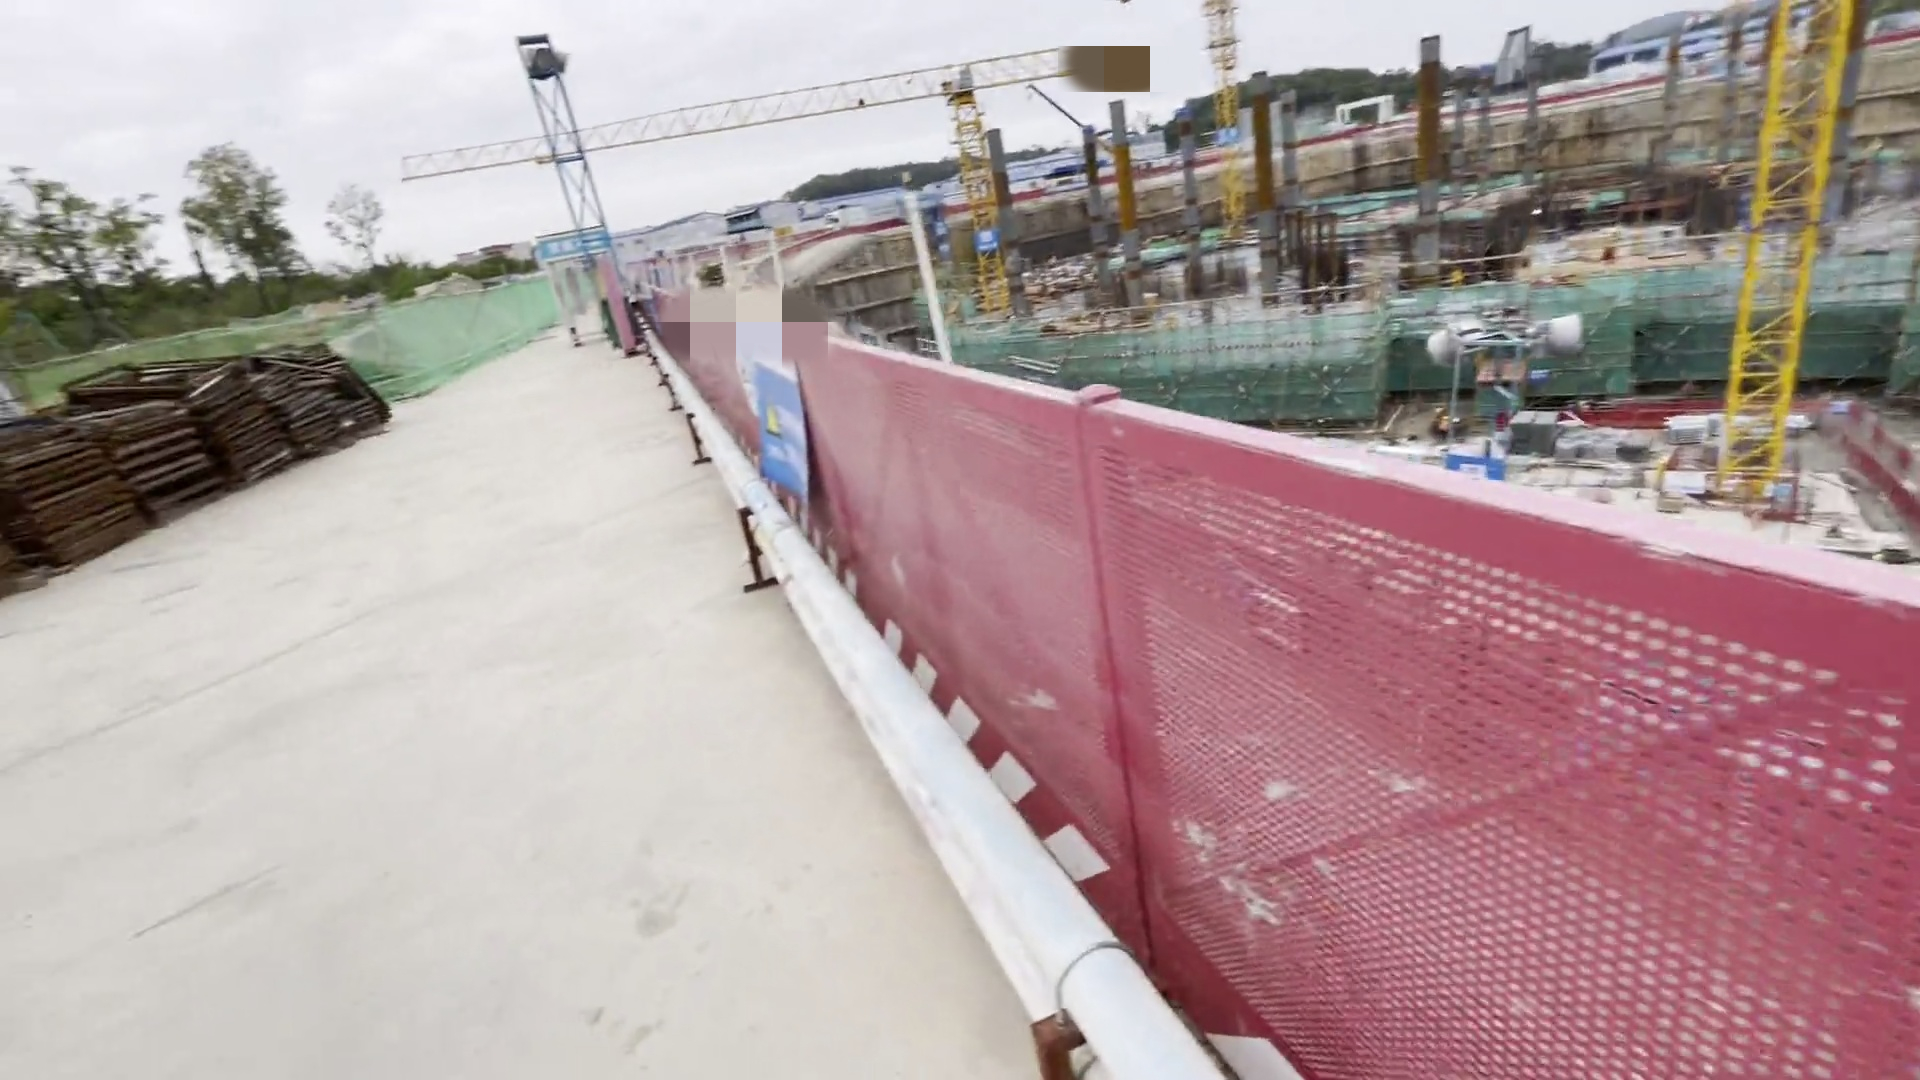fence: (620, 280, 1882, 1065)
slogan: (740, 342, 815, 492), (538, 223, 611, 266)
